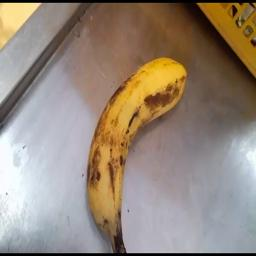Banana Overripe: (83, 36, 196, 256)
